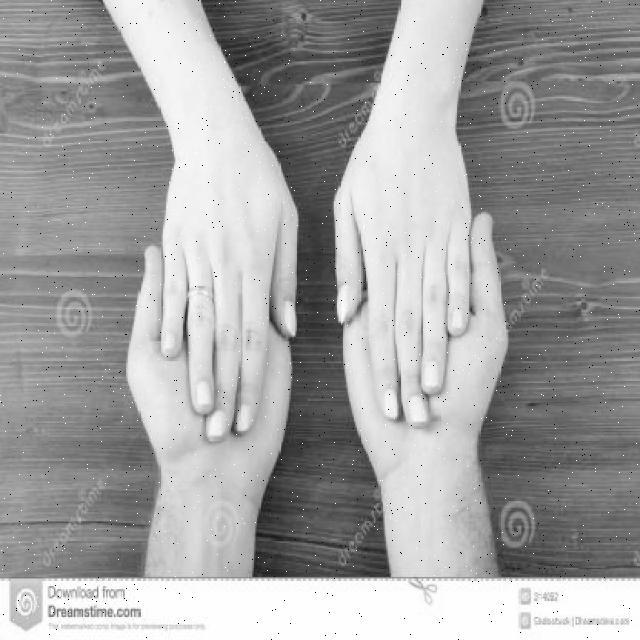no_apron: (328, 111, 484, 421), (147, 120, 301, 408)
